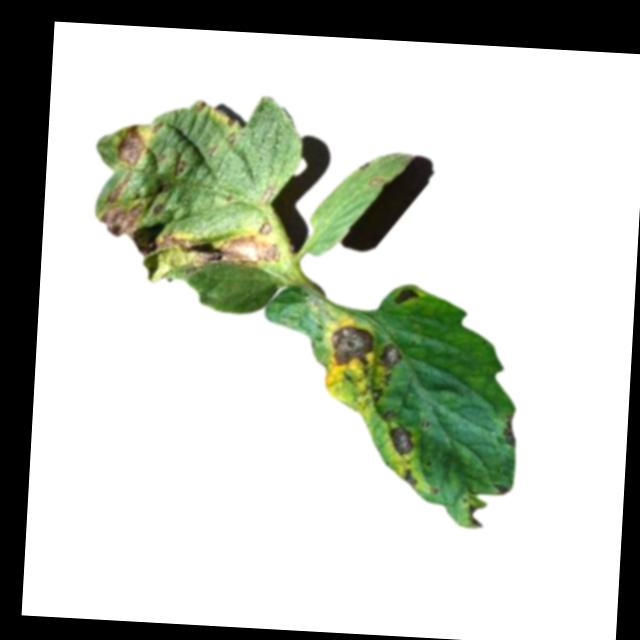Early_blight: (152, 232, 282, 274), (97, 173, 142, 238), (331, 325, 374, 368), (115, 122, 147, 170), (385, 424, 415, 458), (499, 416, 519, 448), (381, 345, 401, 372), (467, 504, 487, 531), (394, 289, 420, 308), (401, 466, 418, 491), (495, 482, 510, 499), (256, 222, 274, 236), (174, 162, 186, 177)
